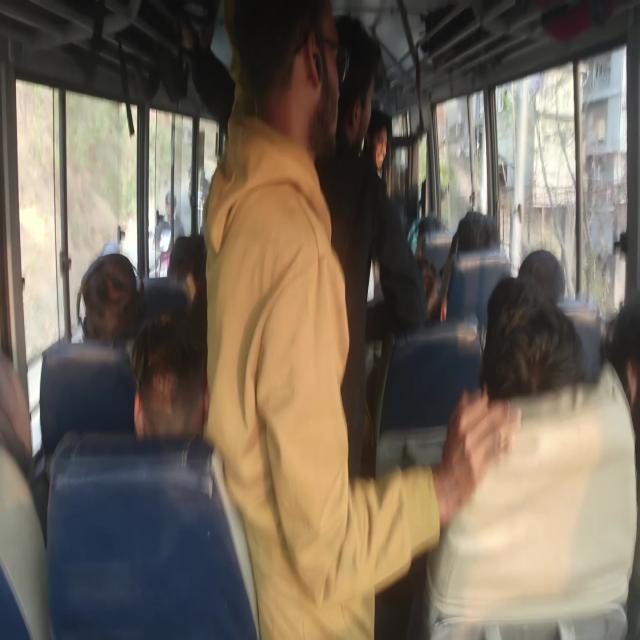person: (487, 292, 618, 488), (129, 320, 233, 491), (236, 0, 334, 175), (314, 11, 375, 135), (0, 366, 48, 507), (83, 249, 148, 353), (164, 211, 225, 290), (398, 252, 448, 339), (353, 71, 390, 185), (527, 244, 576, 318), (458, 198, 502, 280)
